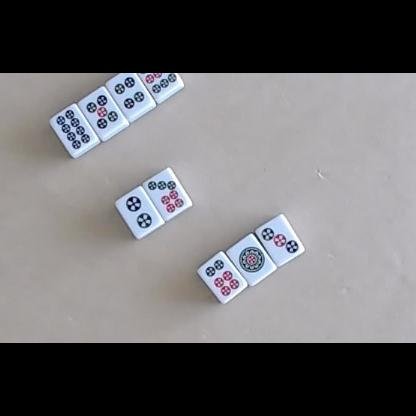1p: (239, 246, 265, 273)
2p: (125, 195, 153, 229)
3p: (260, 227, 300, 255)
4p: (114, 77, 144, 111)
5p: (86, 94, 119, 130)
6p: (205, 260, 240, 297)
7p: (147, 180, 184, 214)
8p: (55, 109, 91, 150)
9p: (138, 73, 177, 94)
